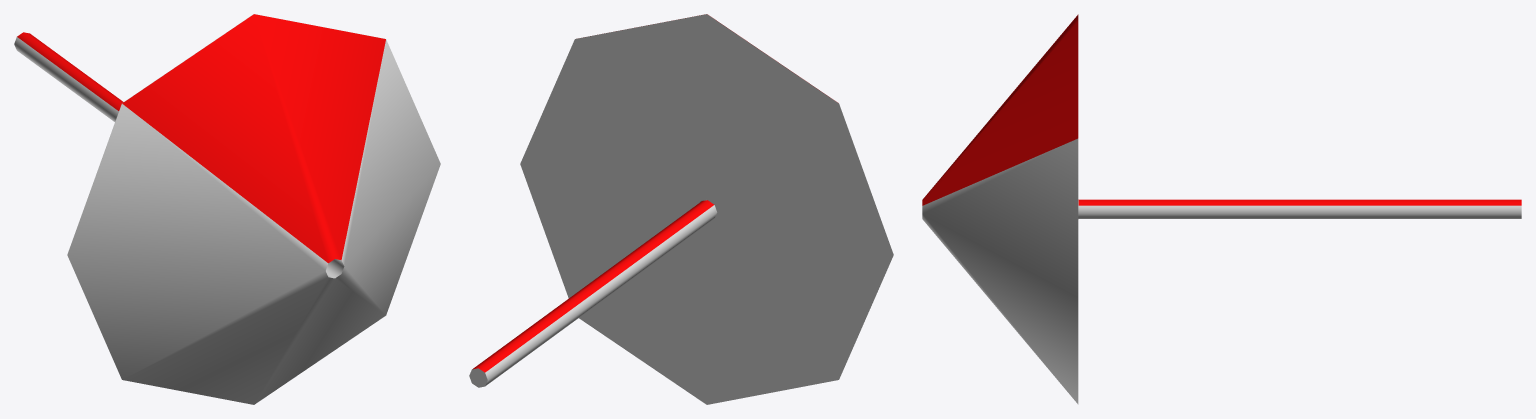
The model's file is arrow.dae.
3 views of the same model, side by side, from view 1: azimuth 30°, elevation 25°; view 2: azimuth 150°, elevation 25°; view 3: azimuth 270°, elevation 25° (orthographic). The views are drawn at different scales.
Parts seen in each view (by area): view 1: Model; view 2: Model; view 3: Model.
Boxes of the visible parts, bbox=[...] form: Model: bbox=[14, 14, 440, 404]; Model: bbox=[469, 14, 893, 404]; Model: bbox=[922, 14, 1521, 404].
Bounding box in the file's own units: 400 × 400 × 576.
Materials: 2 (1 with a texture image).
